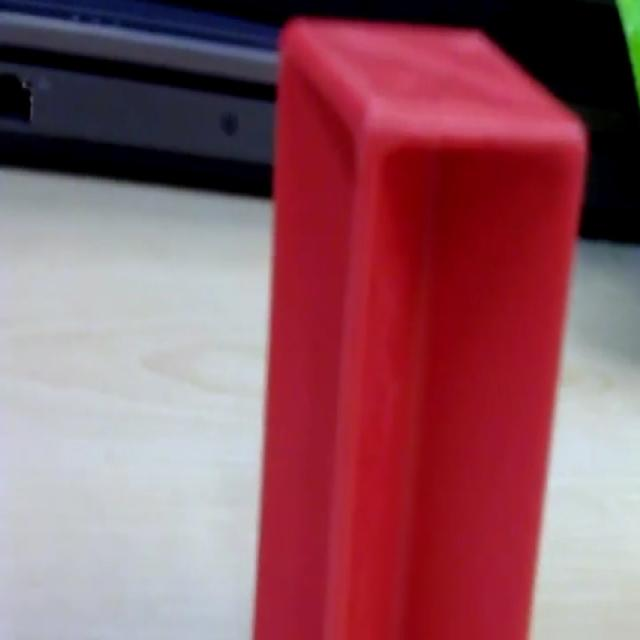red_block: (251, 15, 588, 636)
